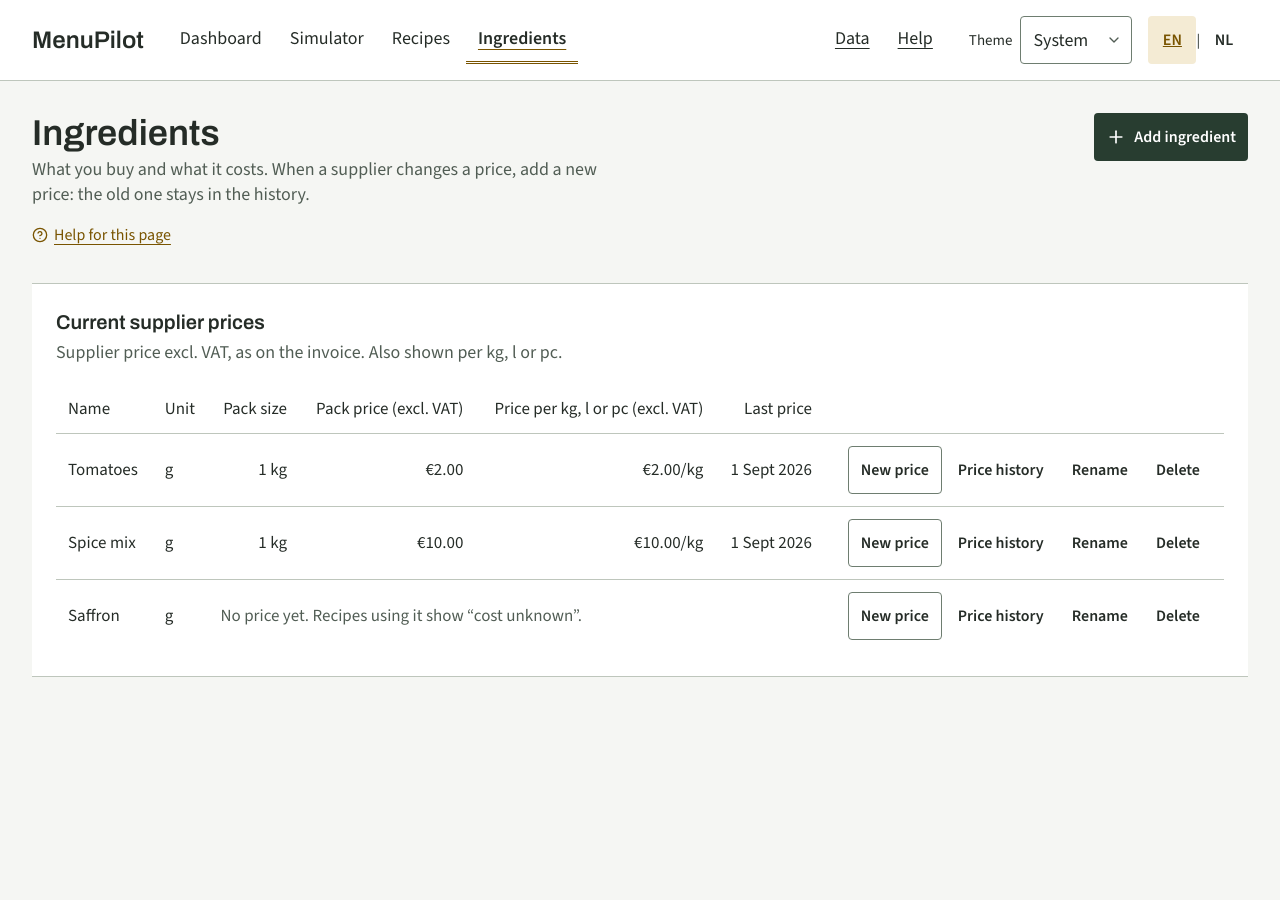
Scenario: where it is used › the ingredient delete error names up to 3 recipes and "and N more"
Expected: the heading "Ingredients" is shown, [32,113,220,153]
Click the button with aria-label "Delete Tomatoes" at (1178, 470), box [1144,446,1212,494]
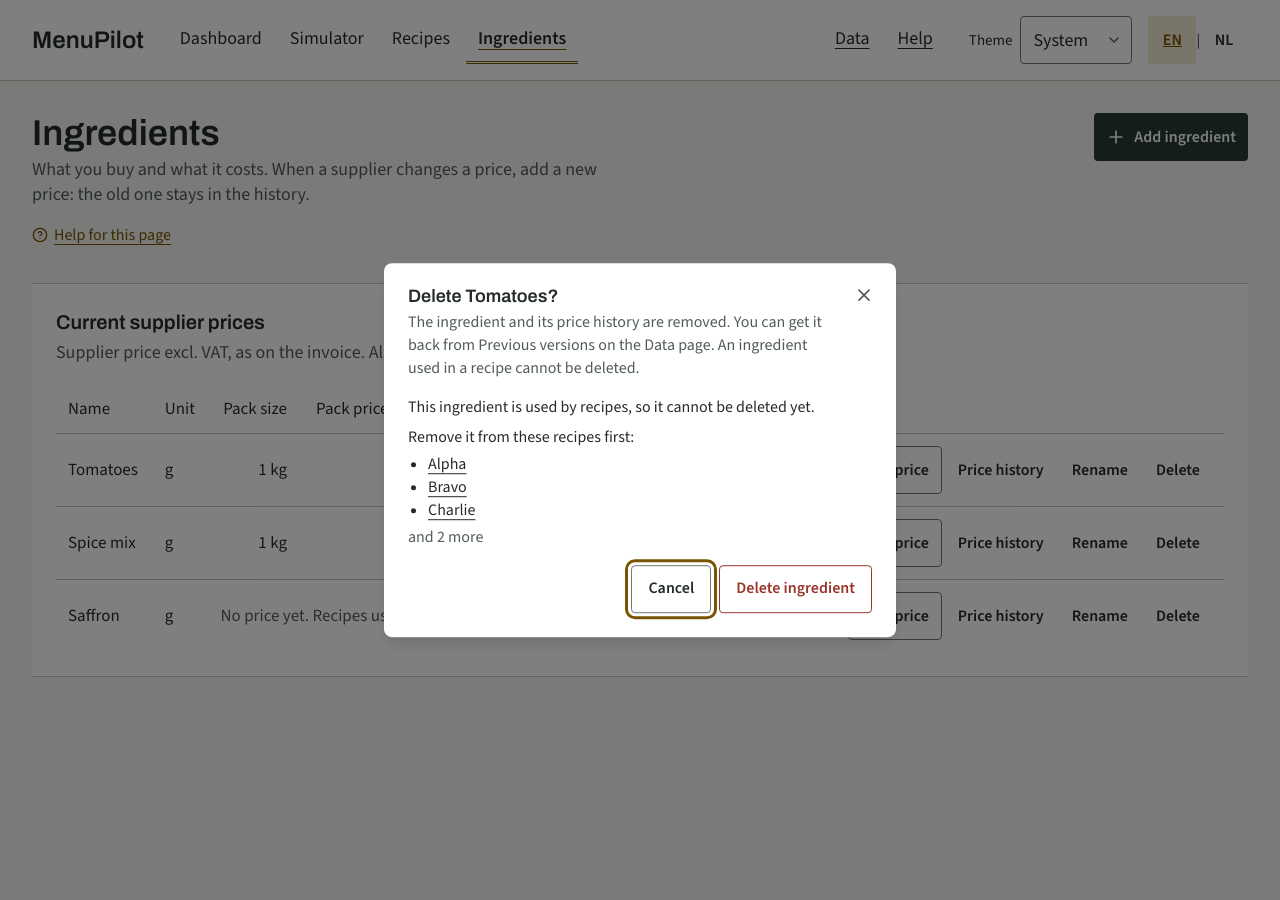
Expected: the text "cannot be deleted yet" is shown, [408,396,815,417]
Click the button "Delete ingredient" at (796, 589), box [719,565,872,613]
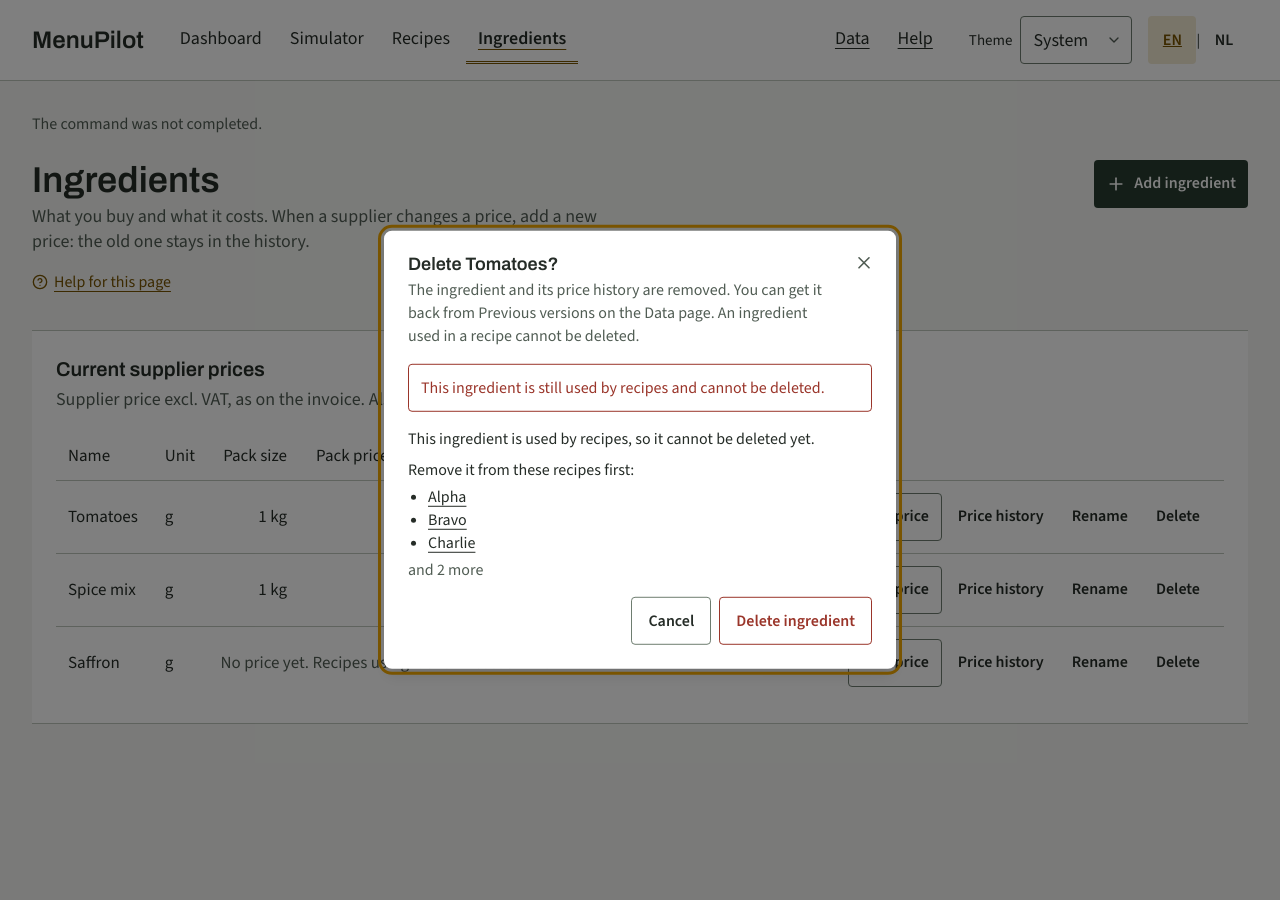
Expected: the text "and 2 more" is shown, [408,558,483,579]
Expected: the links read "Alpha", "Bravo", "Charlie", in this order, [428,486,466,507]; [428,509,467,530]; [428,532,475,552]
Expected: the message reads "This ingredient is still used by recipes and cannot be deleted.", [421,376,825,397]
